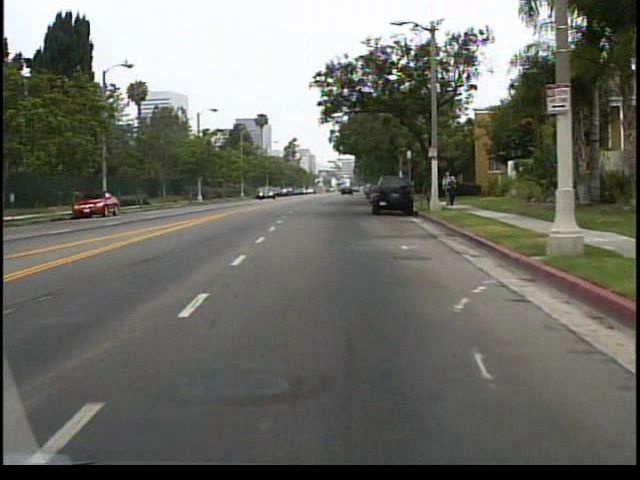person: (442, 169, 458, 209), (447, 173, 460, 207)
